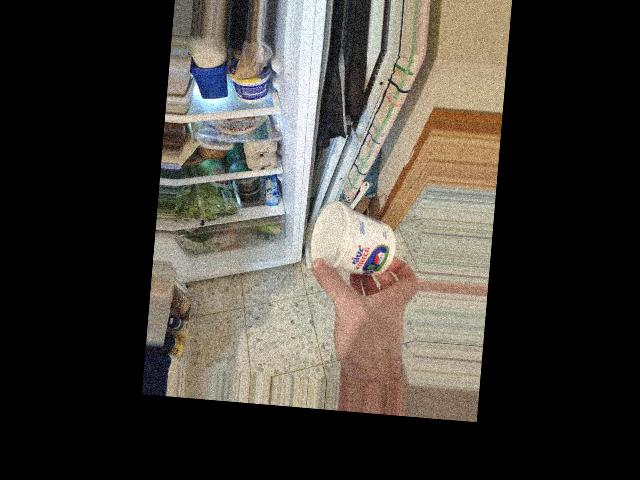cotage: (310, 201, 402, 285)
